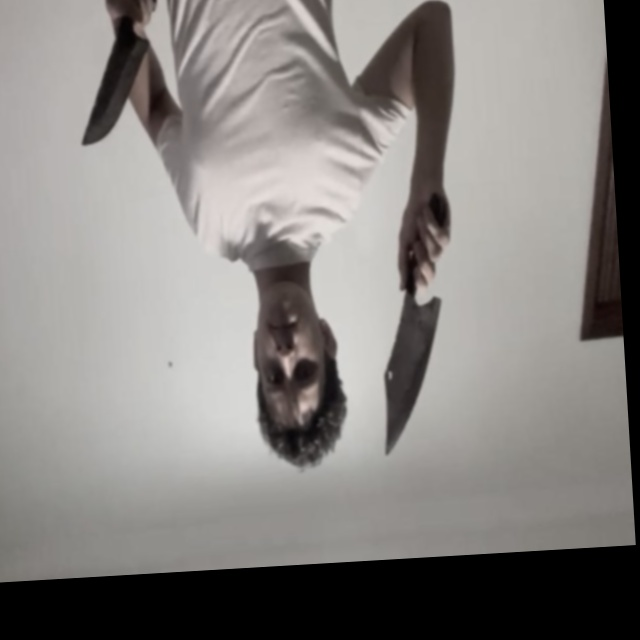Sharp-Object: (376, 295, 450, 457), (76, 34, 156, 148)
